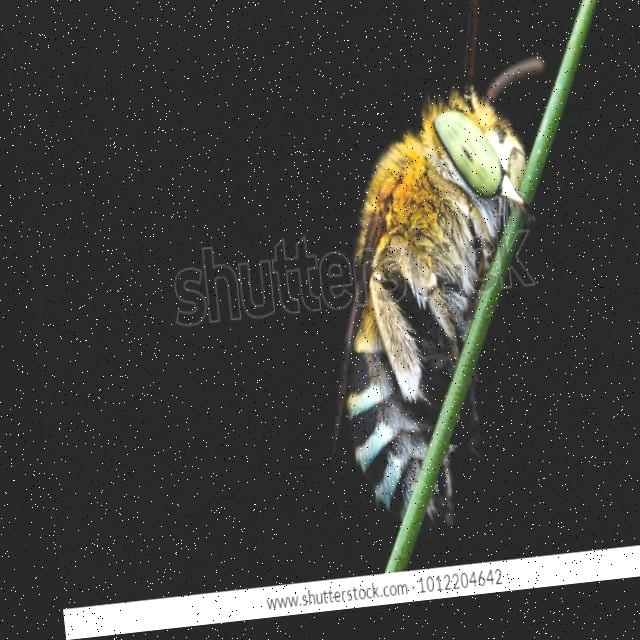Braunsapis: (271, 0, 597, 570)
